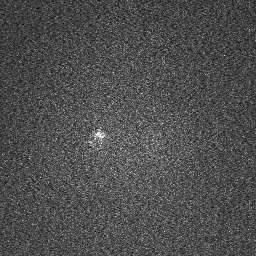dot: (92, 128, 105, 143)
